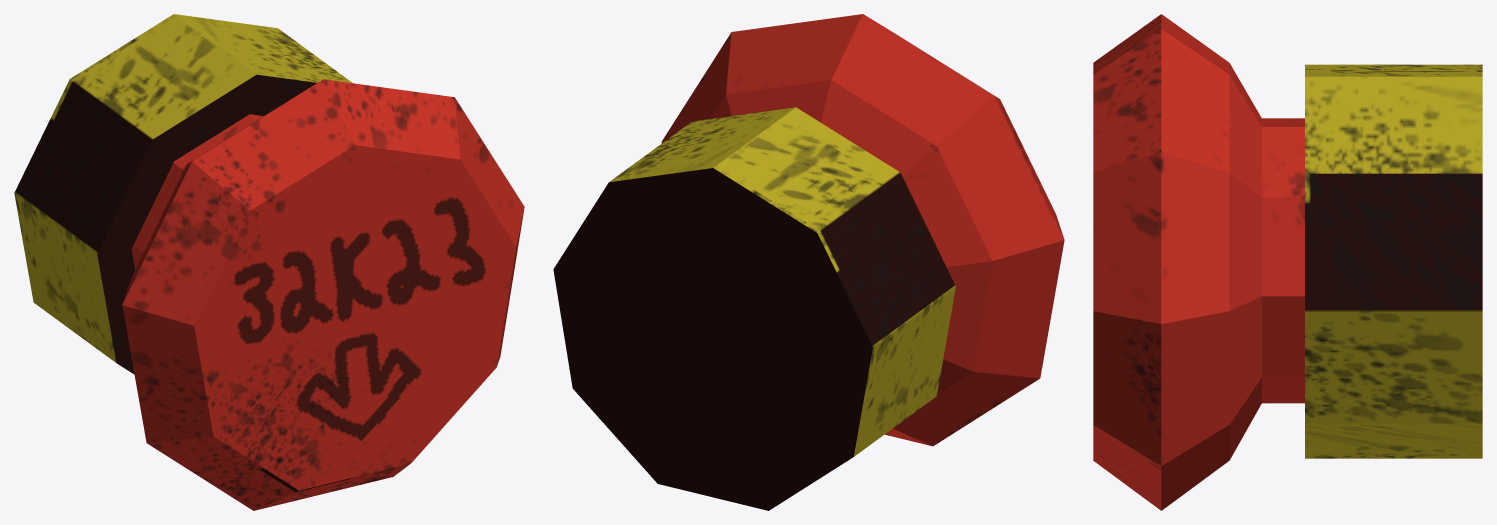
The model's file is Env_Button_Emergancy.fbx.
The picture shows the model from 3 angles, left to right: view 1: azimuth 30°, elevation 25°; view 2: azimuth 150°, elevation 25°; view 3: azimuth 270°, elevation 25°; orthographic projection. The views are drawn at different scales.
Parts seen in each view (by area): view 1: Cylinder.002, Cylinder.001; view 2: Cylinder.001, Cylinder.002; view 3: Cylinder.002, Cylinder.001.
Part boxes in pixels (bbox=[...]): Cylinder.002: bbox=[122, 79, 524, 510]; Cylinder.001: bbox=[14, 14, 352, 374]; Cylinder.001: bbox=[553, 107, 955, 510]; Cylinder.002: bbox=[661, 14, 1064, 446]; Cylinder.002: bbox=[1093, 14, 1304, 510]; Cylinder.001: bbox=[1305, 64, 1482, 458].
Bounding box in the file's own units: 14.37 × 14.15 × 11.22.
